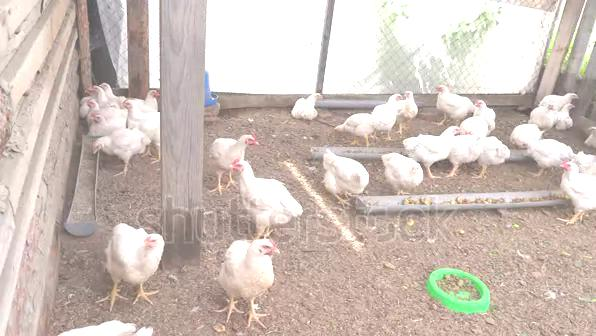Pollos: (230, 161, 304, 224), (220, 239, 278, 299), (114, 230, 165, 277), (323, 148, 371, 192), (560, 160, 596, 209), (520, 135, 578, 164), (380, 152, 422, 189), (211, 132, 259, 161), (422, 123, 461, 158), (91, 129, 139, 157), (87, 79, 120, 116), (434, 83, 470, 116), (120, 100, 158, 131), (473, 135, 508, 168), (290, 92, 325, 119), (332, 114, 379, 134), (375, 94, 402, 128), (530, 101, 554, 124), (473, 96, 496, 117), (556, 103, 577, 126), (399, 90, 415, 117)
